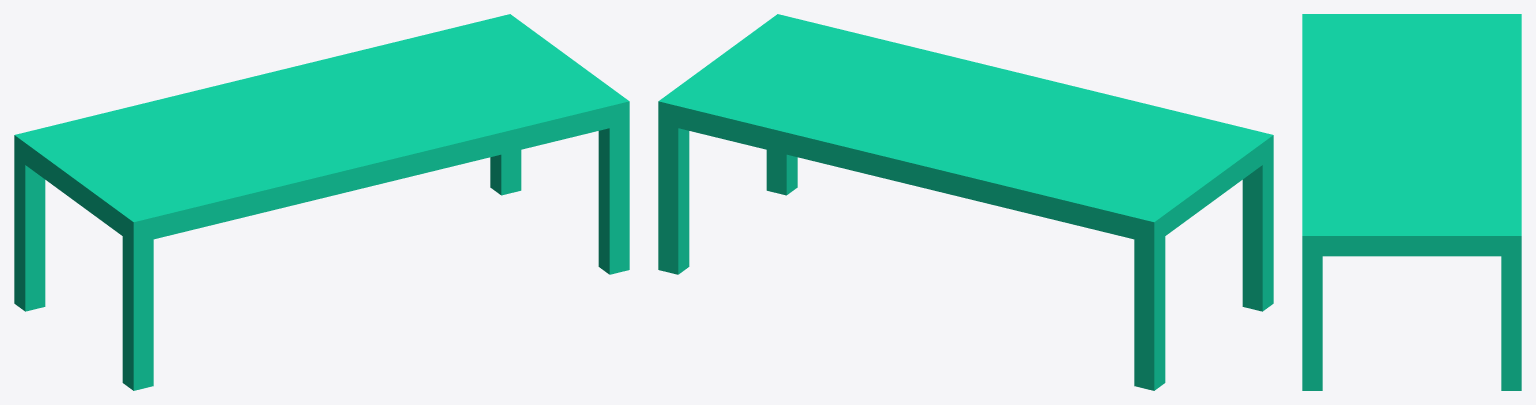
Rendered from SofaTable.glb.
3 renders of one model, left to right at view 1: azimuth 30°, elevation 25°; view 2: azimuth 150°, elevation 25°; view 3: azimuth 270°, elevation 25°, orthographic. The views are drawn at different scales.
Parts seen in each view (by area): view 1: Cube; view 2: Cube; view 3: Cube.
Part boxes in pixels (x1=…): Cube: x1=14, y1=14, x2=629, y2=390; Cube: x1=658, y1=14, x2=1273, y2=390; Cube: x1=1302, y1=14, x2=1521, y2=390.
Size of the model in its own units: 1.15 by 0.3738 by 0.4792.
